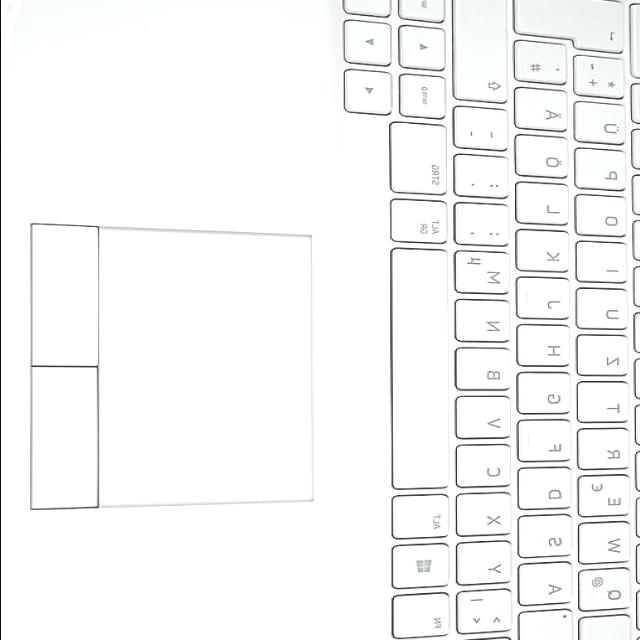0: (615, 176, 640, 220)
1: (618, 588, 640, 632)
2: (618, 543, 640, 587)
3: (618, 498, 640, 541)
4: (618, 452, 640, 494)
5: (616, 405, 640, 449)
6: (616, 359, 640, 403)
7: (616, 314, 640, 356)
8: (616, 267, 640, 311)
9: (615, 223, 640, 265)
a: (520, 564, 576, 608)
accent: (615, 86, 640, 128)
ae: (517, 88, 573, 134)
alt-left: (394, 495, 454, 542)
altgr-right: (392, 200, 451, 248)
b: (458, 349, 516, 395)
c: (458, 446, 517, 491)
caret: (619, 613, 640, 640)
comma: (456, 204, 514, 250)
d: (520, 468, 576, 513)
del: (614, 6, 640, 85)
e: (578, 476, 634, 519)
enter: (515, 0, 631, 57)
f: (520, 420, 576, 465)
g: (519, 374, 575, 418)
h: (519, 326, 575, 370)
hash: (515, 42, 571, 87)
i: (577, 244, 631, 286)
j: (518, 279, 574, 323)
k: (518, 231, 574, 275)
keyboard: (339, 0, 640, 640)
l: (517, 183, 573, 227)
less: (459, 590, 517, 637)
m: (456, 252, 515, 298)
minus: (455, 107, 513, 154)
n: (456, 300, 515, 345)
o: (576, 196, 632, 240)
oe: (517, 136, 573, 181)
p: (576, 150, 630, 194)
plus: (576, 57, 630, 101)
point: (457, 155, 513, 202)
q: (579, 569, 635, 614)
r: (578, 429, 634, 473)
s: (520, 516, 576, 561)
shift-left: (459, 606, 518, 640)
shift-lock: (520, 594, 580, 640)
shift-right: (454, 0, 514, 106)
space: (392, 249, 455, 493)
ss: (615, 131, 640, 175)
strg-left: (394, 606, 454, 640)
strg-right: (392, 124, 451, 200)
t: (578, 383, 634, 426)
tab: (581, 600, 637, 640)
u: (577, 289, 633, 333)
ue: (574, 103, 630, 147)
v: (456, 398, 515, 442)
w: (579, 523, 635, 567)
x: (458, 494, 517, 540)
y: (459, 542, 517, 587)
z: (578, 337, 634, 379)
